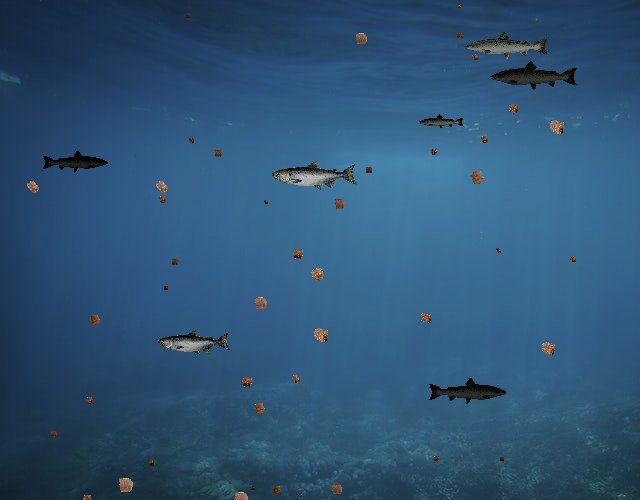Fish: (489, 60, 579, 92), (464, 30, 550, 61), (272, 160, 358, 191), (427, 376, 508, 406), (158, 329, 231, 355), (42, 149, 110, 174), (418, 114, 465, 131)
Pellet: (110, 470, 140, 500), (247, 290, 274, 317), (349, 26, 374, 51), (235, 371, 258, 393), (362, 163, 376, 177), (185, 135, 198, 148), (454, 0, 464, 10)
